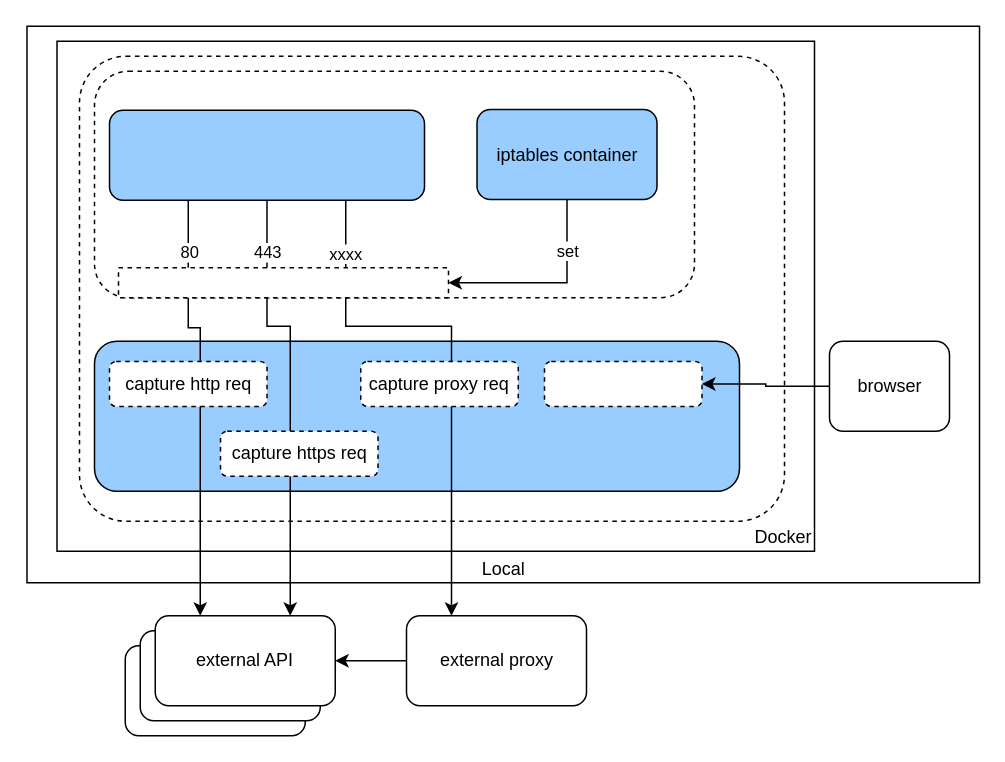
Some shapes in this 1005 by 762 pixel diagram are drawn without their labels. The shapes that lost their labels are listed below. From the top down, each one's box as (x1, y1, x2, y2) in pixels, then its label:
(108, 109, 424, 200): target application container
(93, 70, 694, 298): (container network)
(117, 266, 448, 298): iptables rules
(78, 55, 784, 521): (docker-compose bridge network)
(543, 360, 702, 406): admin
(93, 340, 740, 491): http-request-capture container (golang)
